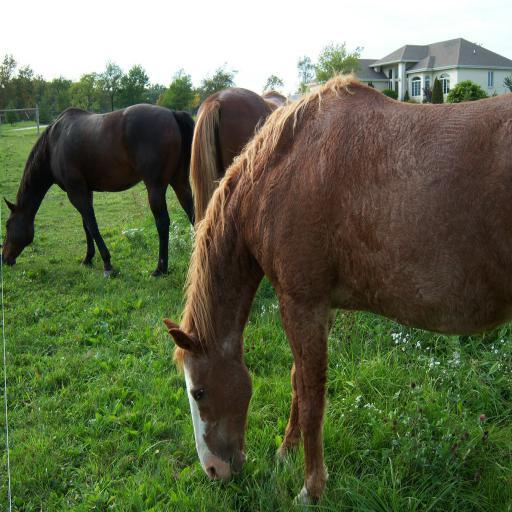Horse: (162, 66, 512, 512), (0, 105, 196, 279), (189, 85, 292, 220)
